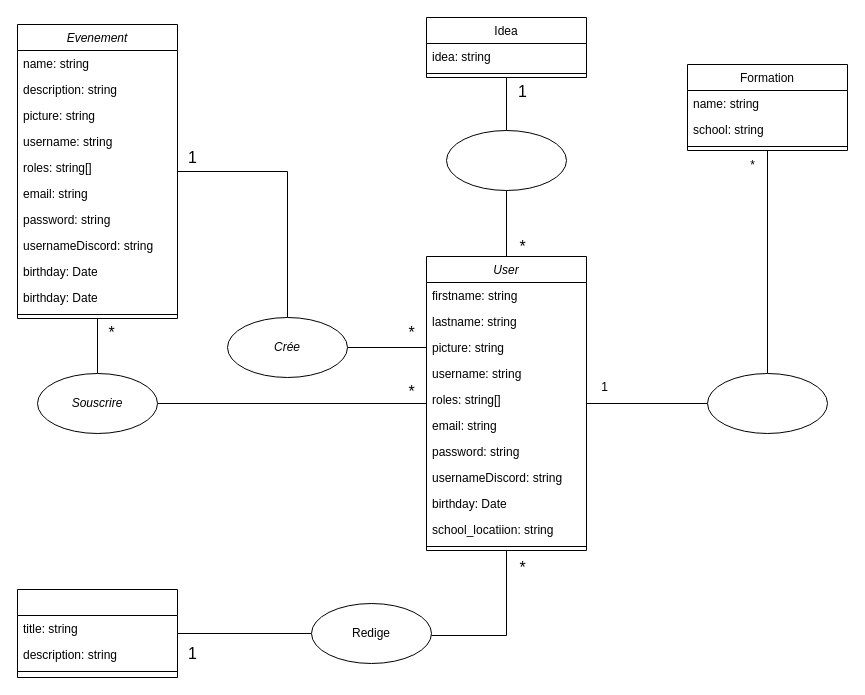
Some shapes in this 865 by 695 pixel diagram are drawn without their labels. The shapes that lost their labels are listed below. From the top down, each one's box as (x1, y1, x2, y2) in pixels, then its label:
(446, 130, 566, 190): Avoir
(706, 372, 828, 434): Inscrit
(16, 588, 178, 678): NewsFeed
